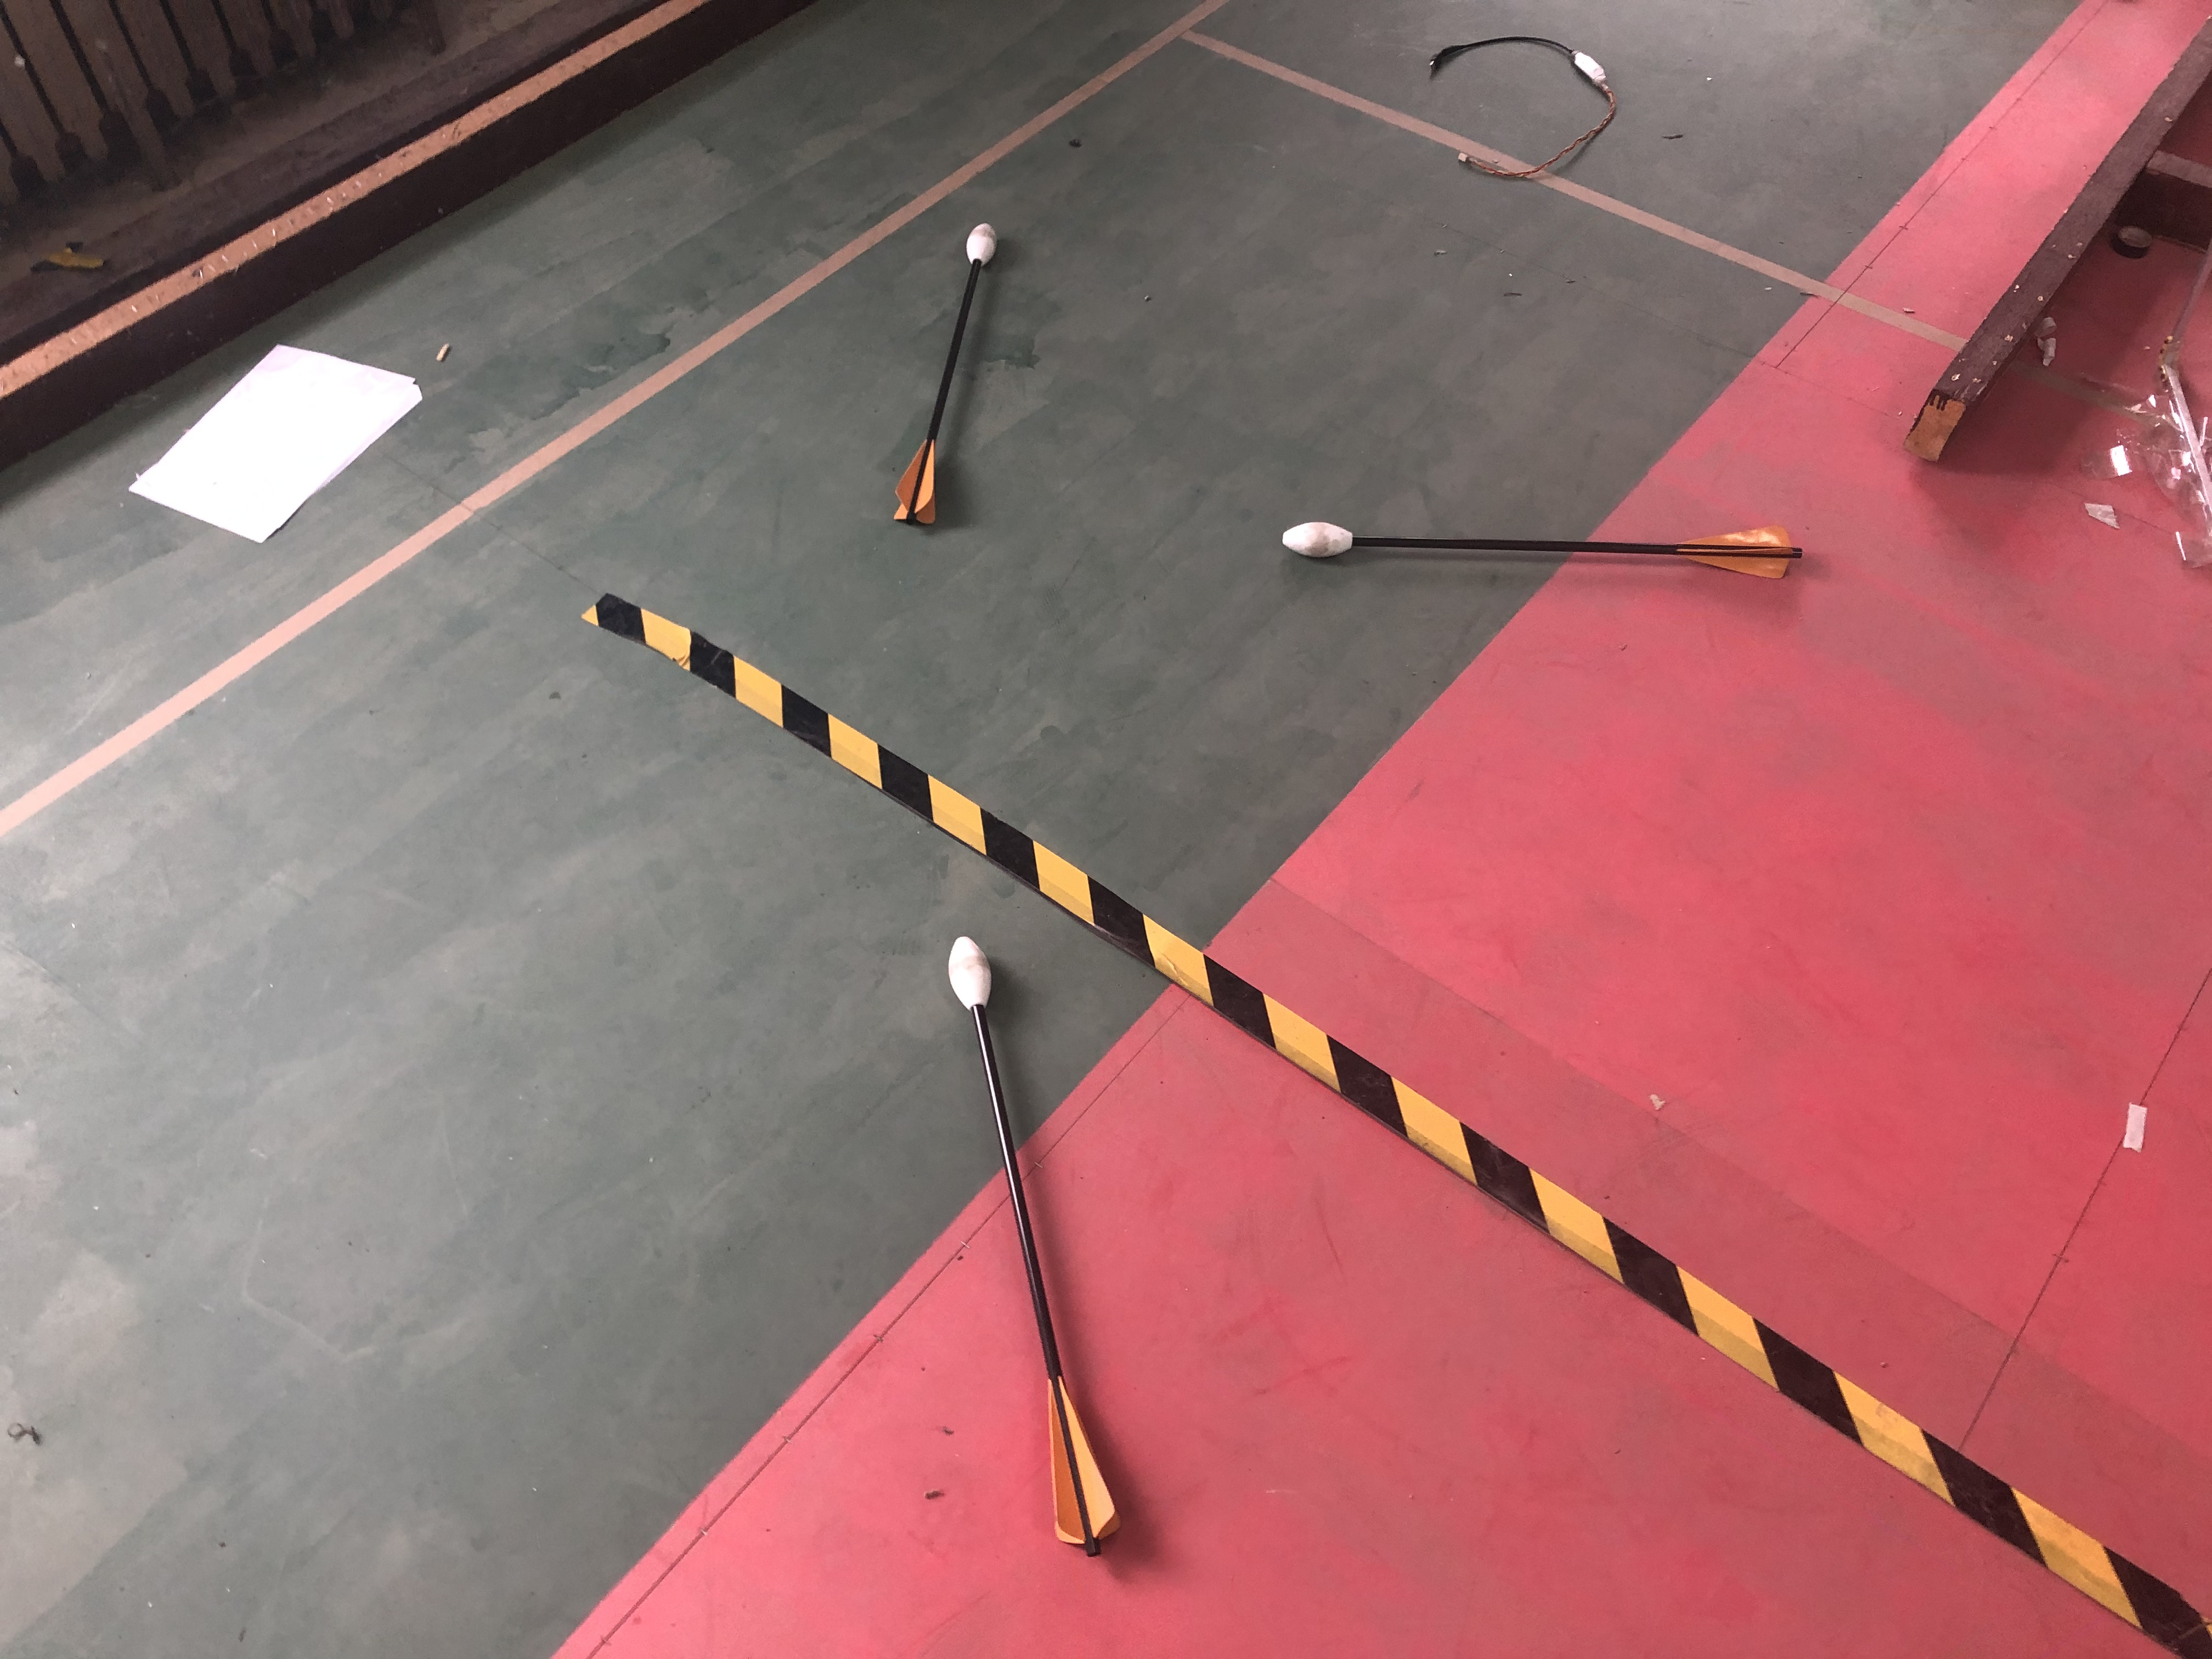arrow: (946, 927, 1127, 1556), (1278, 519, 1804, 584), (894, 220, 996, 525)
arrowFront: (948, 931, 993, 1012), (1277, 521, 1360, 558), (965, 220, 998, 267)
